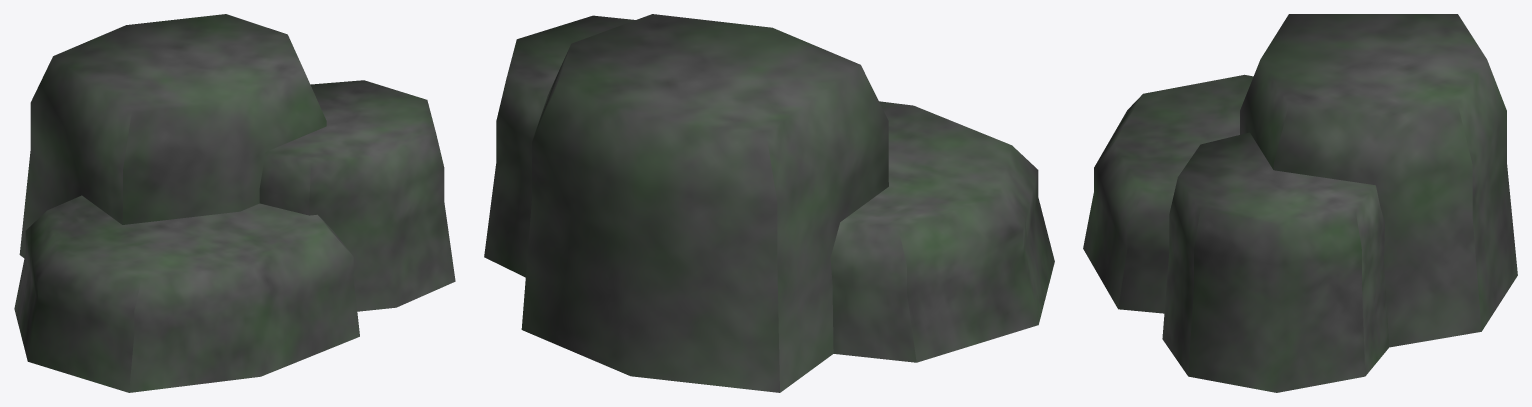
The model's file is Rock Set 1.fbx.
3 views of the same model, side by side, from view 1: azimuth 30°, elevation 25°; view 2: azimuth 150°, elevation 25°; view 3: azimuth 270°, elevation 25° (orthographic). The views are drawn at different scales.
Visible parts, largest first — view 1: Cube; view 2: Cube; view 3: Cube.
Part boxes in pixels (x1,y1,x2,y2): Cube: [14, 14, 455, 392]; Cube: [484, 14, 1054, 392]; Cube: [1083, 14, 1517, 392].
Bounding box in the file's own units: 8.11 × 10.06 × 4.46.
